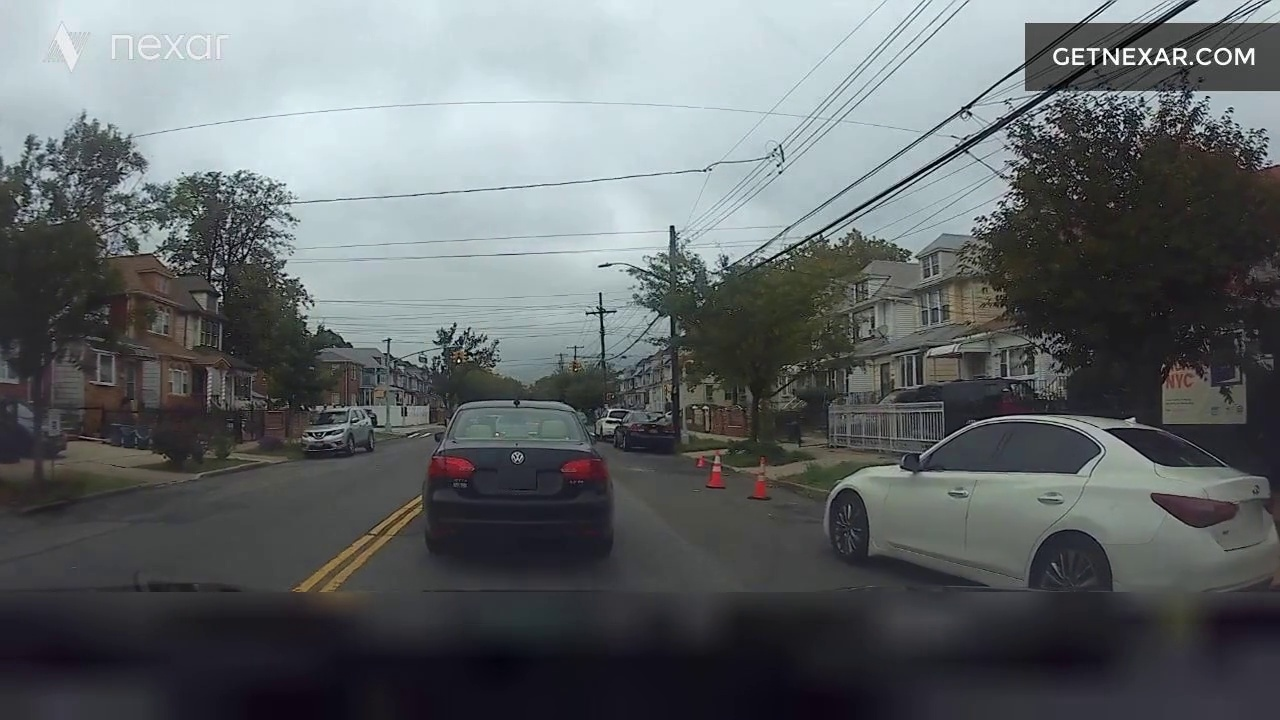car: (805, 390, 1280, 620), (442, 393, 614, 587), (294, 404, 387, 468), (615, 390, 676, 458)
traffic light: (439, 338, 480, 380)
